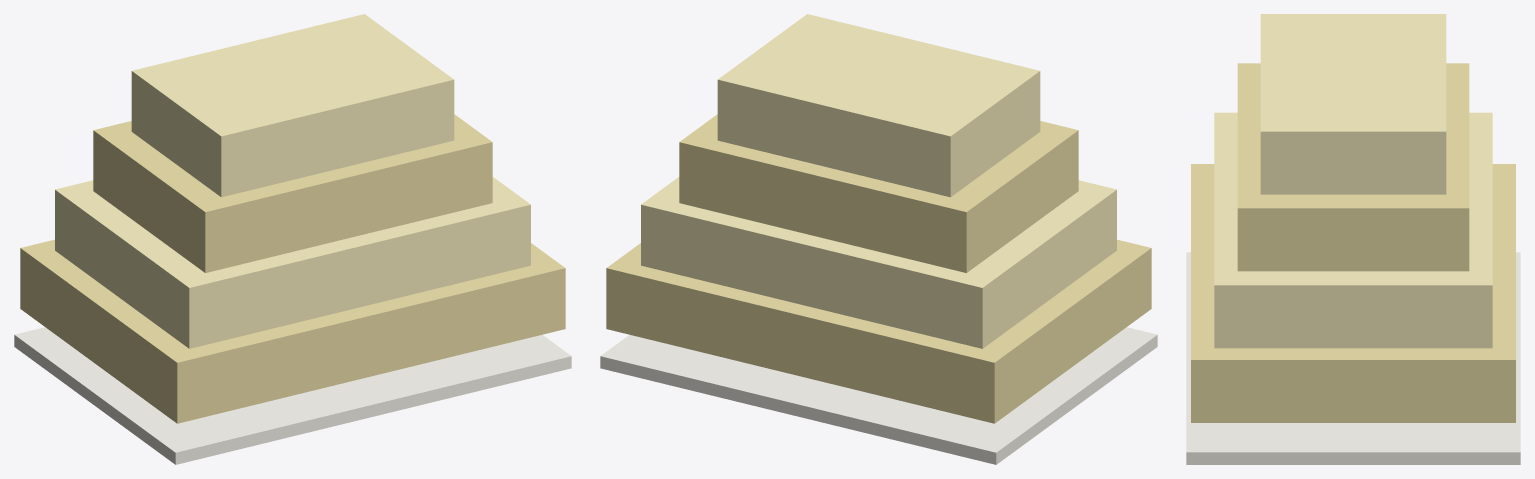
File: vestido_verao_saia.glb
The picture shows the model from 3 angles, left to right: view 1: azimuth 30°, elevation 25°; view 2: azimuth 150°, elevation 25°; view 3: azimuth 270°, elevation 25°; orthographic projection. The views are drawn at different scales.
Visible parts, largest first — view 1: vestido_verao_saia; view 2: vestido_verao_saia; view 3: vestido_verao_saia.
Boxes of the visible parts, <box> form: vestido_verao_saia: <box>14,14,571,464</box>; vestido_verao_saia: <box>600,14,1157,464</box>; vestido_verao_saia: <box>1186,14,1520,464</box>.
Size of the model in its own units: 1.02 by 0.695 by 0.72.
